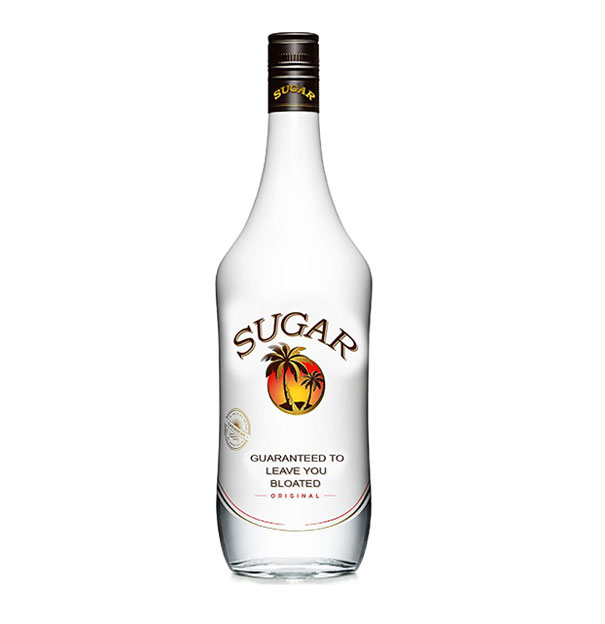bottle: (211, 27, 376, 587)
